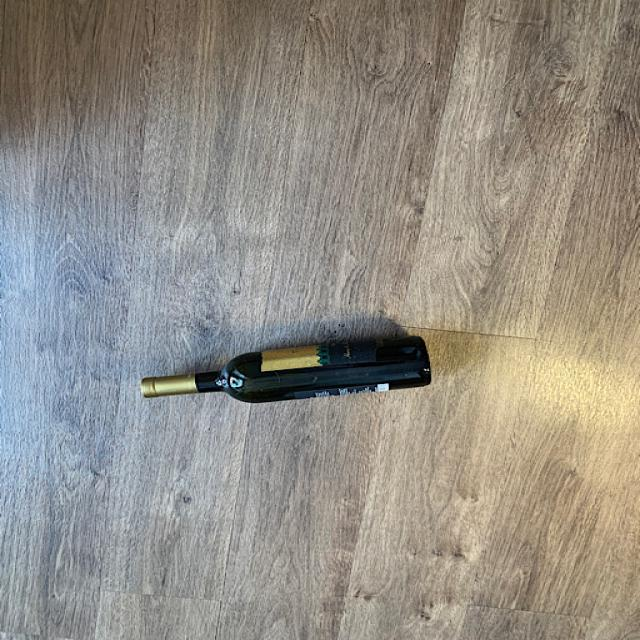litter: (134, 332, 432, 408)
